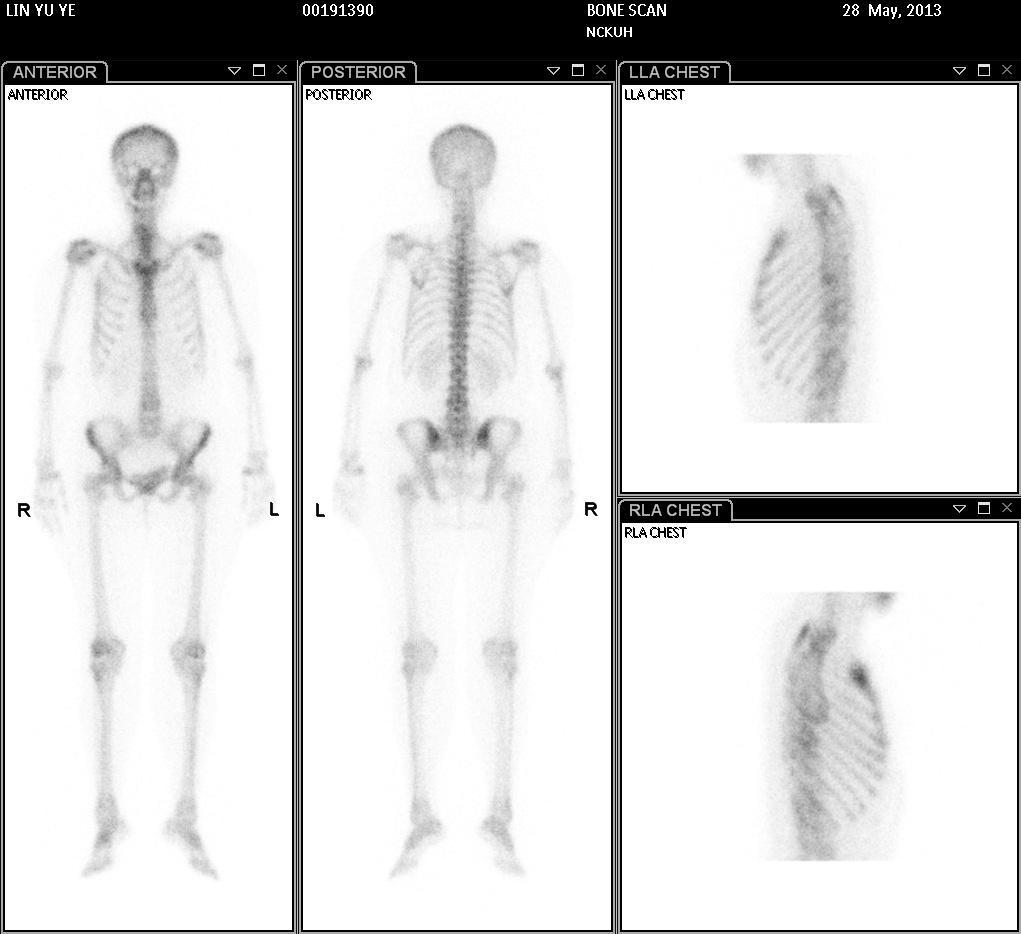person: (3, 82, 613, 930)
